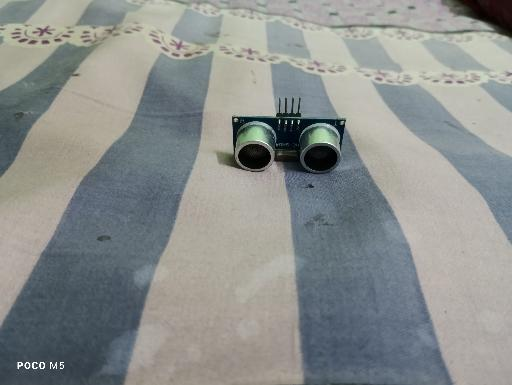sensor: (231, 96, 346, 174)
